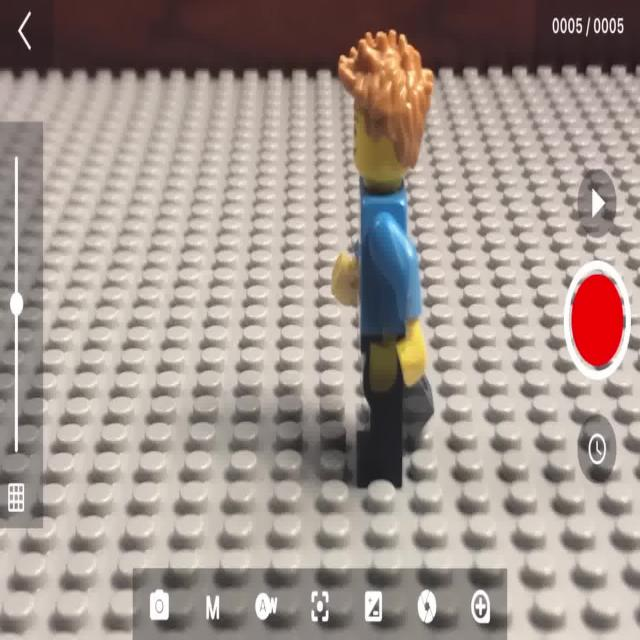4: (374, 220, 429, 383), (330, 248, 362, 308)
hand: (334, 38, 429, 466)
